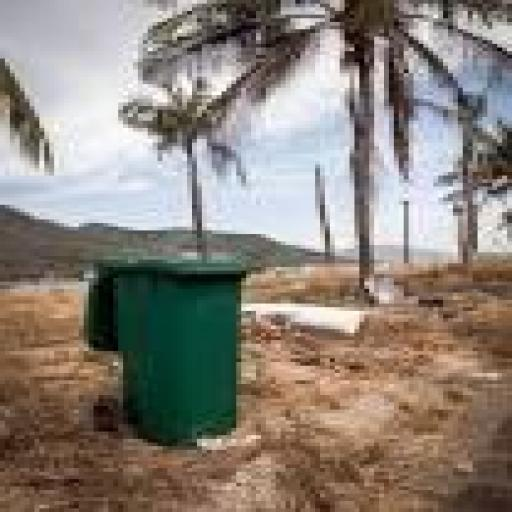poubelle_vide: (51, 221, 311, 449)
